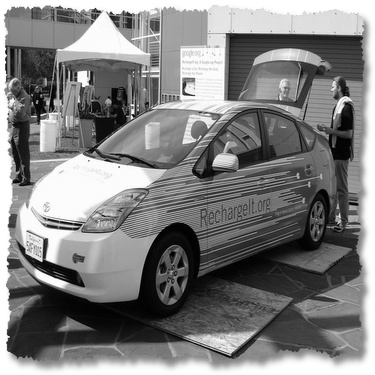car: (15, 36, 349, 312)
